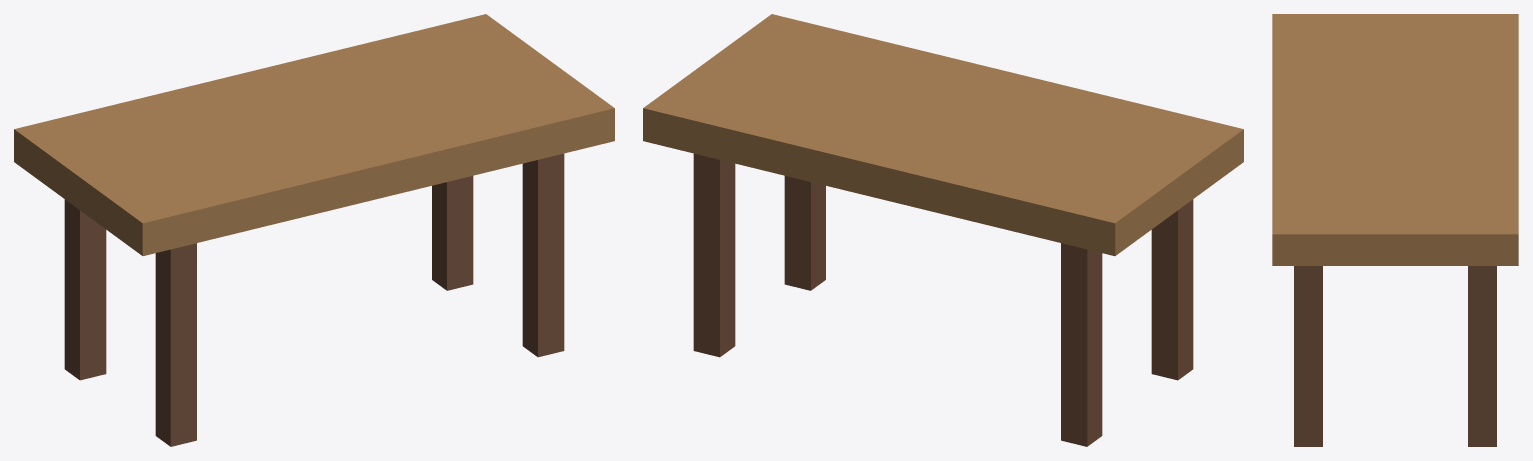
File: work_table.glb
3 renders of one model, left to right at view 1: azimuth 30°, elevation 25°; view 2: azimuth 150°, elevation 25°; view 3: azimuth 270°, elevation 25°, orthographic. The views are drawn at different scales.
Visible parts, largest first — view 1: work_table; view 2: work_table; view 3: work_table.
Part boxes in pixels (x1,y1,x2,y2): work_table: [14, 14, 614, 446]; work_table: [643, 14, 1243, 446]; work_table: [1272, 14, 1518, 446].
Bounding box in the file's own units: 1.8 × 0.88 × 0.85.
